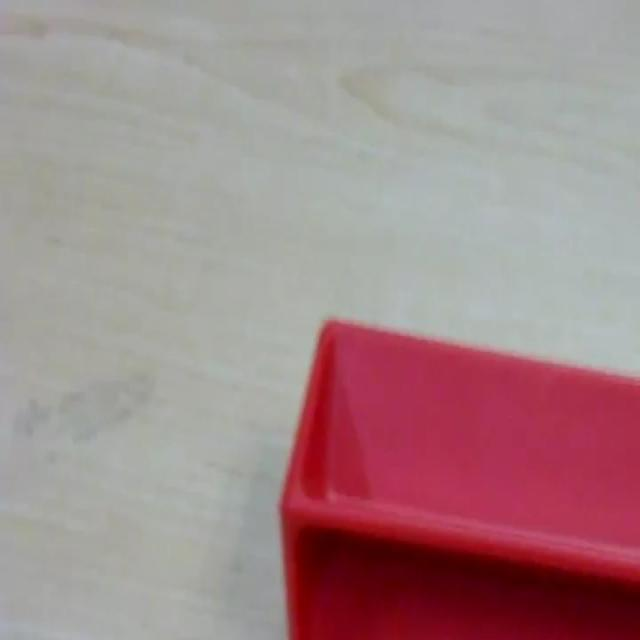red_block: (277, 315, 638, 637)
